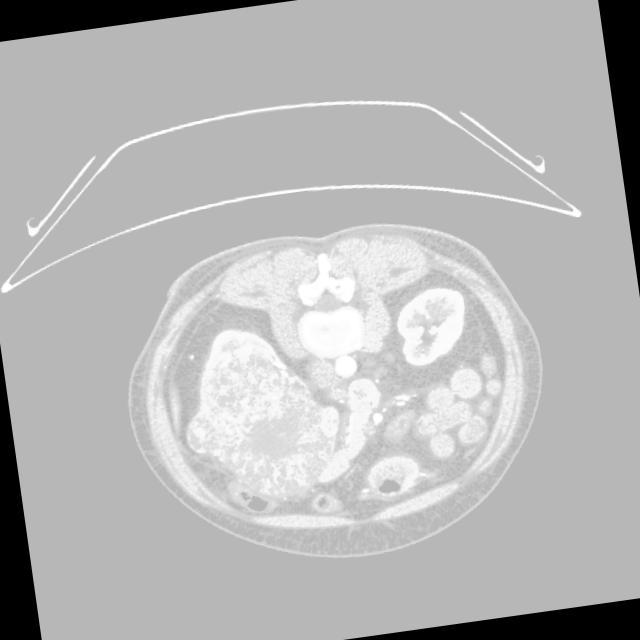TUMOR: (262, 314, 508, 513)
